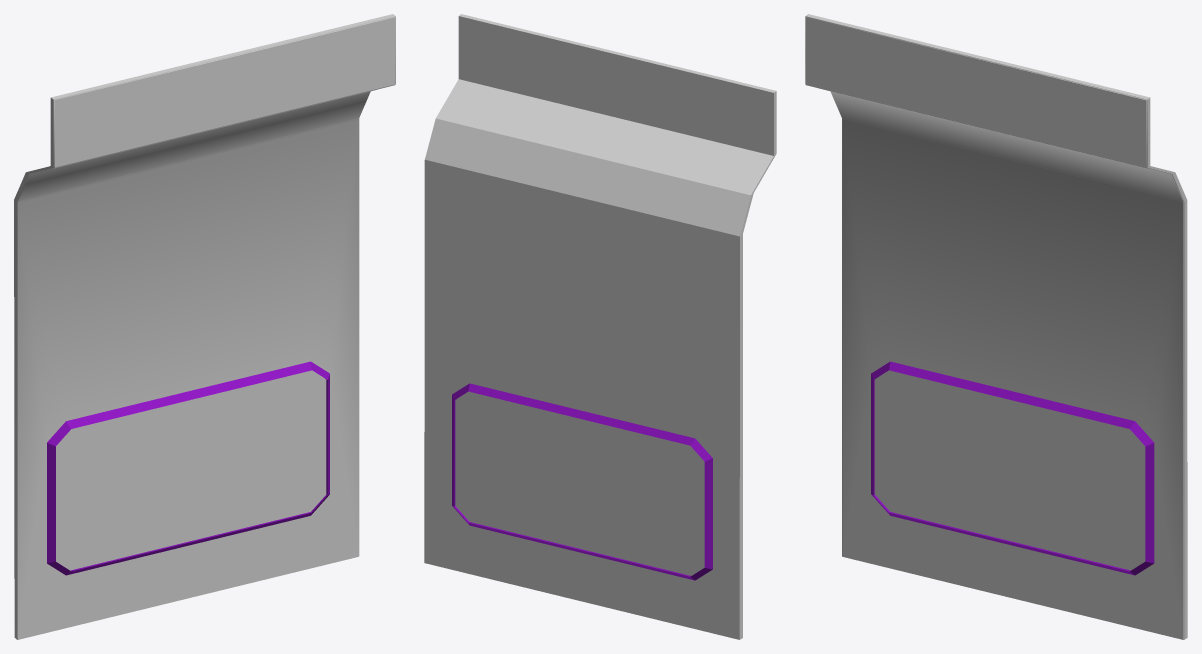
The model's file is ParedVentana.fbx.
The picture shows the model from 3 angles, left to right: view 1: azimuth 30°, elevation 25°; view 2: azimuth 150°, elevation 25°; view 3: azimuth 330°, elevation 25°; orthographic projection. The views are drawn at different scales.
Parts seen in each view (by area): view 1: ParedVentana, VentanaPared; view 2: ParedVentana, VentanaPared; view 3: ParedVentana, VentanaPared.
Boxes of the visible parts, left/top/right/bottom form: ParedVentana: left=14, top=14, right=395, bottom=639; VentanaPared: left=56, top=370, right=326, bottom=570; ParedVentana: left=424, top=14, right=776, bottom=639; VentanaPared: left=455, top=391, right=704, bottom=575; ParedVentana: left=805, top=14, right=1187, bottom=639; VentanaPared: left=874, top=370, right=1145, bottom=570.
Bounding box in the file's own units: 6.01 × 9.5 × 1.31.
